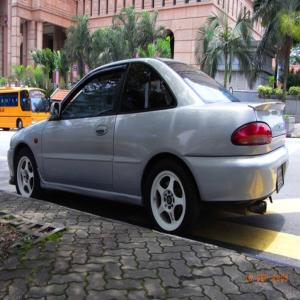Vehicle-registration-plate: (277, 165, 288, 194)
